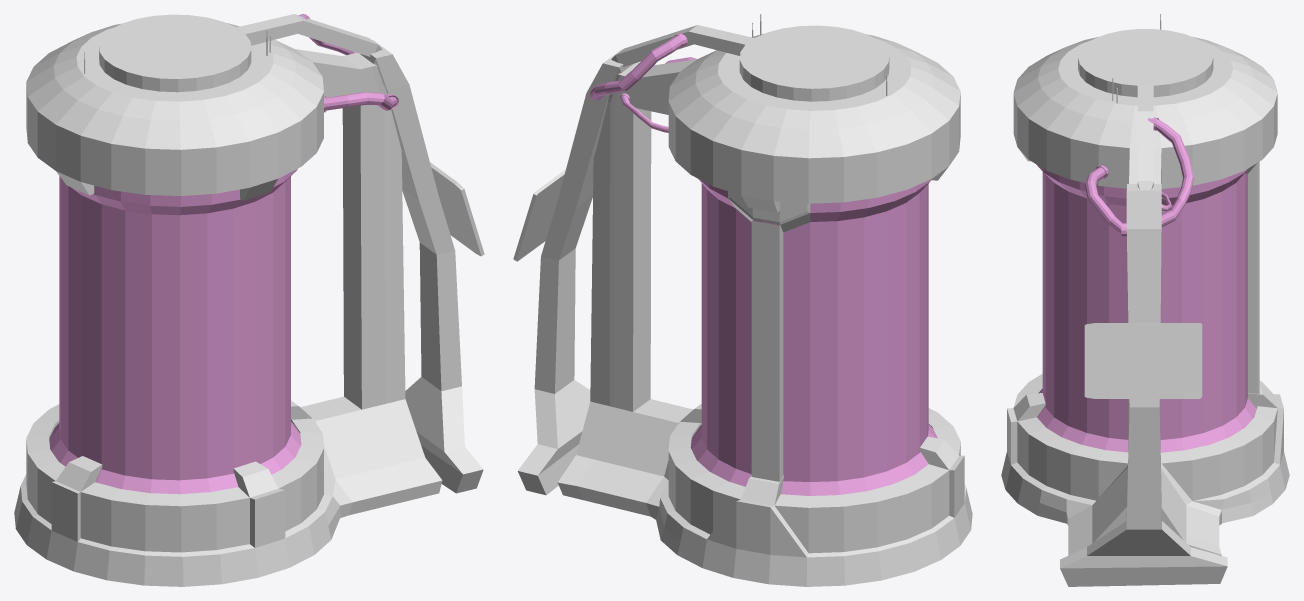
The model's file is Assets_Infiltrator 1.fbx.
3 views of the same model, side by side, from view 1: azimuth 30°, elevation 25°; view 2: azimuth 150°, elevation 25°; view 3: azimuth 270°, elevation 25° (orthographic). The views are drawn at different scales.
Visible parts, largest first — view 1: Torus; view 2: Torus; view 3: Torus.
Part boxes in pixels (left/top/right/bottom): Torus: left=14, top=14, right=484, bottom=586; Torus: left=513, top=14, right=972, bottom=586; Torus: left=1001, top=14, right=1289, bottom=586.
Size of the model in its own units: 374 by 418 by 255.
